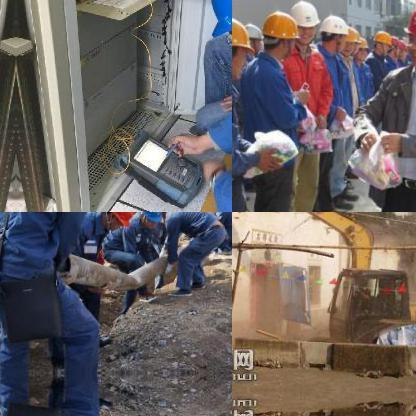Helmet: (258, 8, 294, 56), (232, 10, 252, 77), (291, 0, 319, 44), (318, 15, 346, 51), (402, 0, 415, 67), (240, 18, 262, 56), (370, 27, 390, 57), (100, 212, 135, 228), (354, 36, 368, 61), (344, 22, 354, 56), (135, 212, 160, 225)
